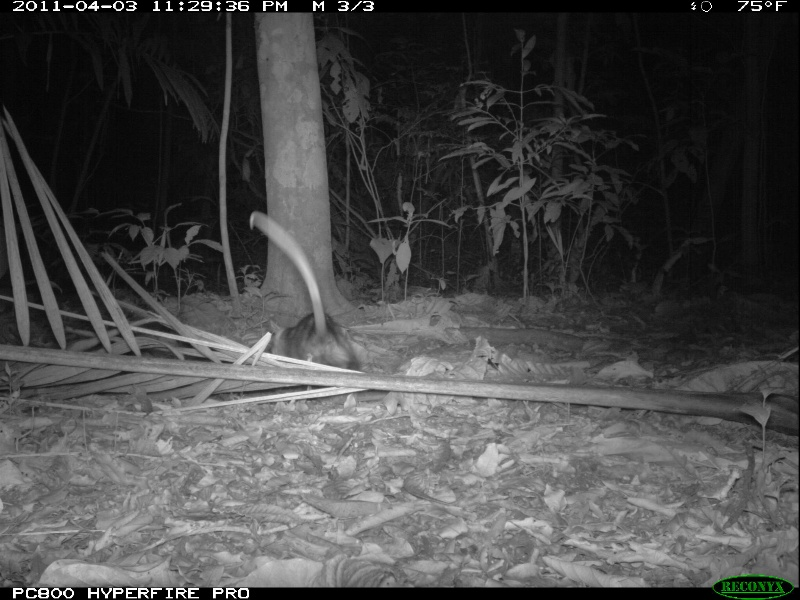opossum: (246, 207, 361, 382)
